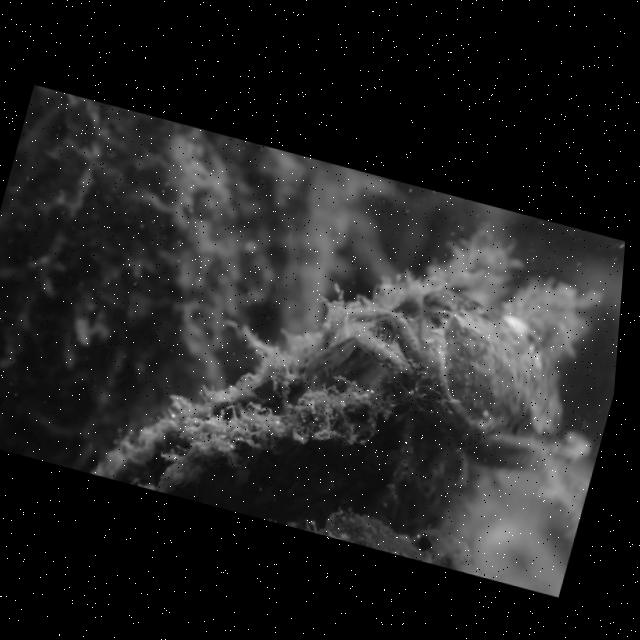Oyster-Open: (107, 264, 580, 527)
